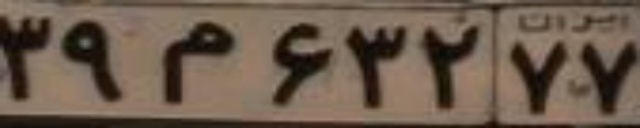2: (420, 23, 481, 111)
3: (344, 24, 408, 109), (1, 11, 54, 101)
6: (267, 22, 333, 104)
7: (507, 39, 572, 116), (578, 36, 637, 115)
9: (60, 18, 126, 102)
mim: (156, 19, 239, 106)
